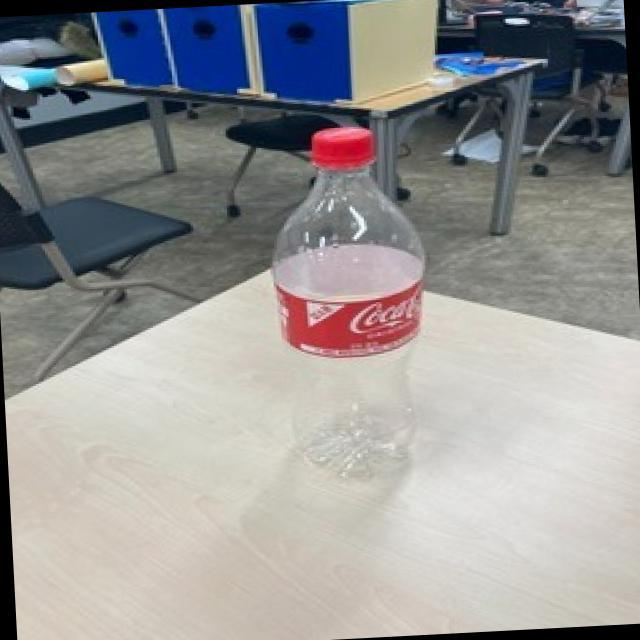good: (258, 114, 437, 494)
